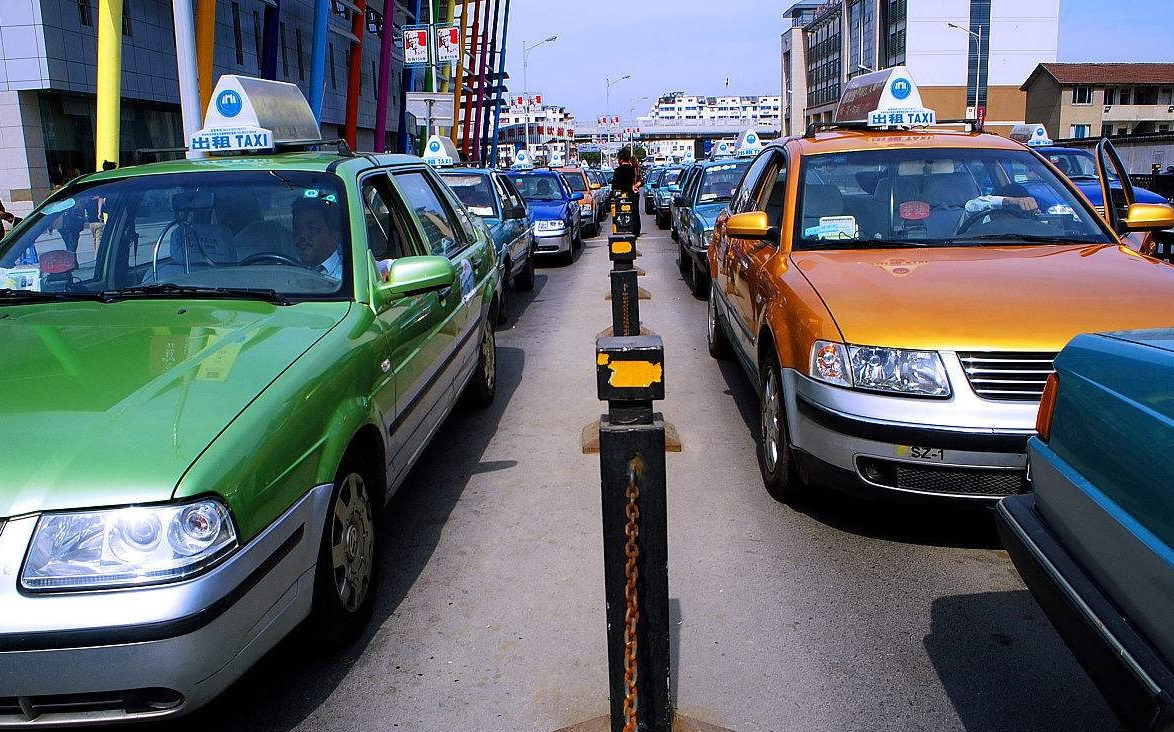taxi: (701, 64, 1174, 531)
